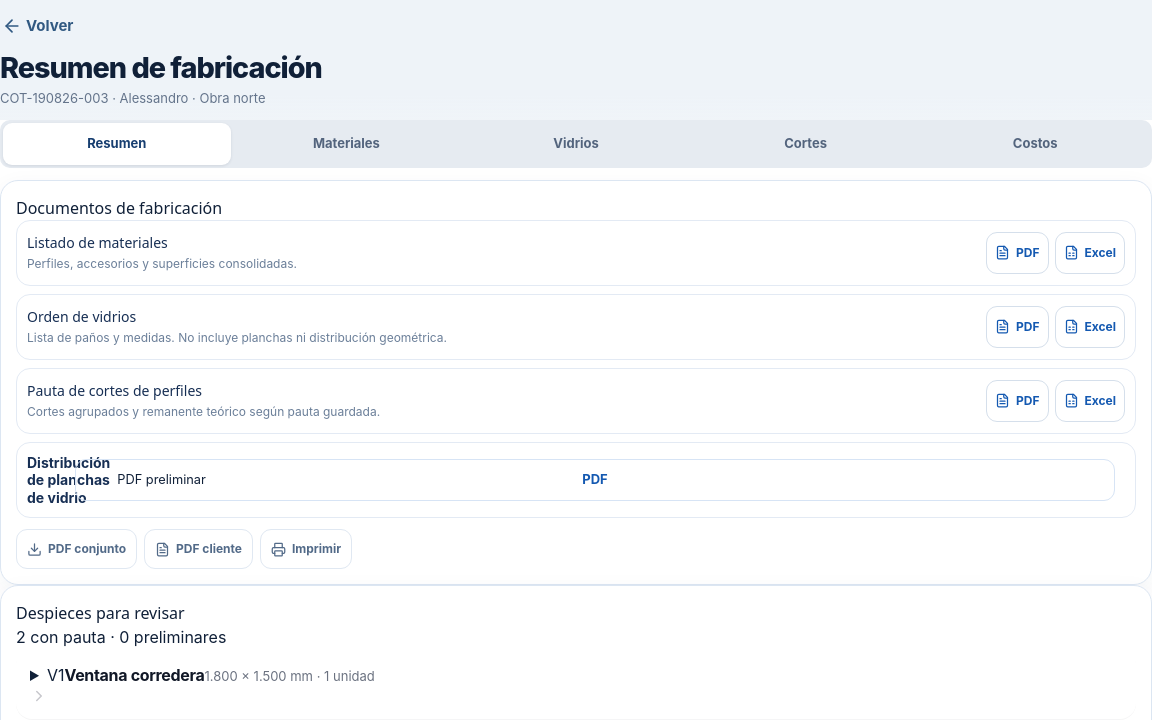
Test: FabricacionResumenMovil › muestra la vista compacta operativa en Materiales con perfiles, accesorios y descargas
Click the tab "Materiales".
click(346, 144)  # box [233, 123, 460, 165]
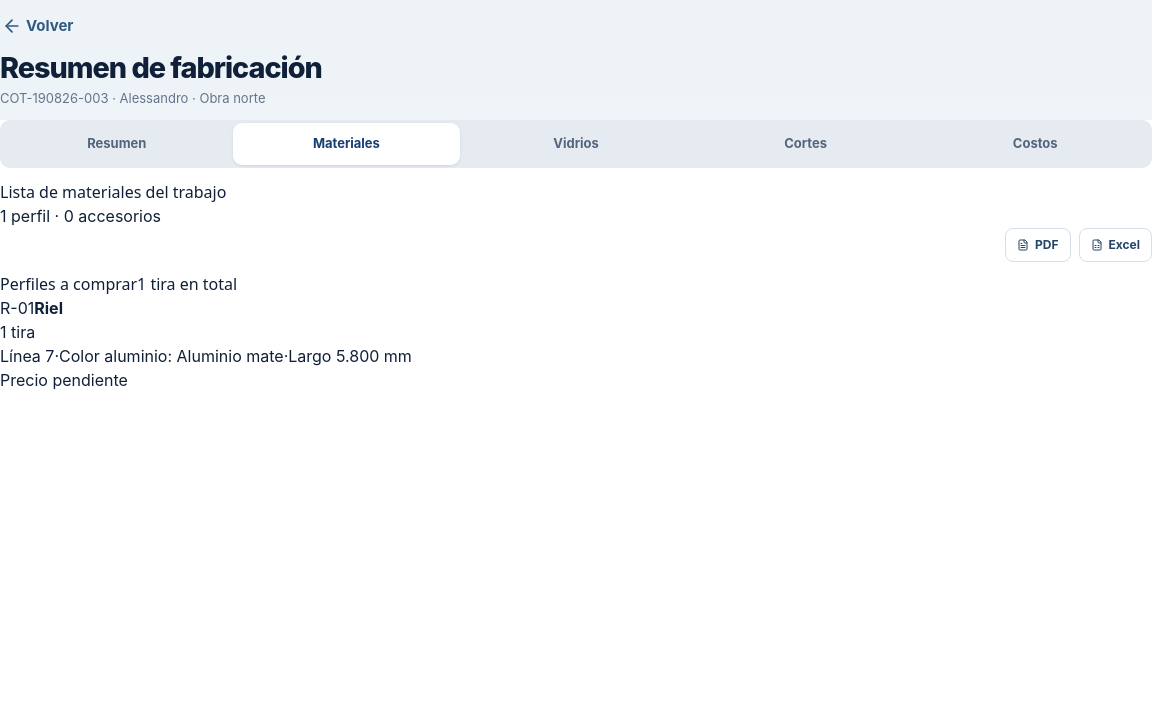
Expected: the heading "Lista de materiales del trabajo" is shown, [0, 181, 226, 203]
Expected: the list named "Perfiles y cantidades para comprar" is shown, [0, 298, 412, 390]
Expected: the heading "Perfiles a comprar1 tira en total" is shown, [0, 273, 237, 295]
